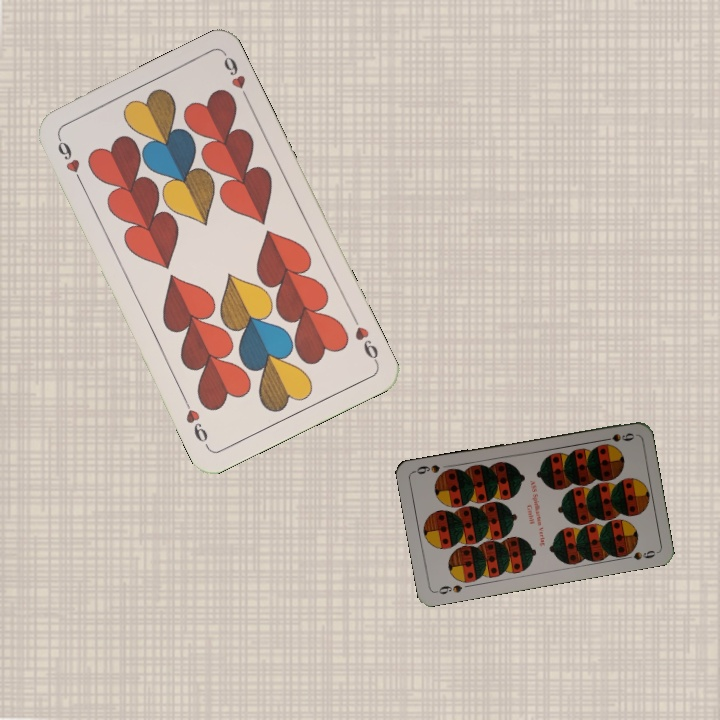H9: (348, 311, 381, 367), (53, 133, 86, 188)
S9: (596, 429, 637, 444), (432, 580, 464, 597)
